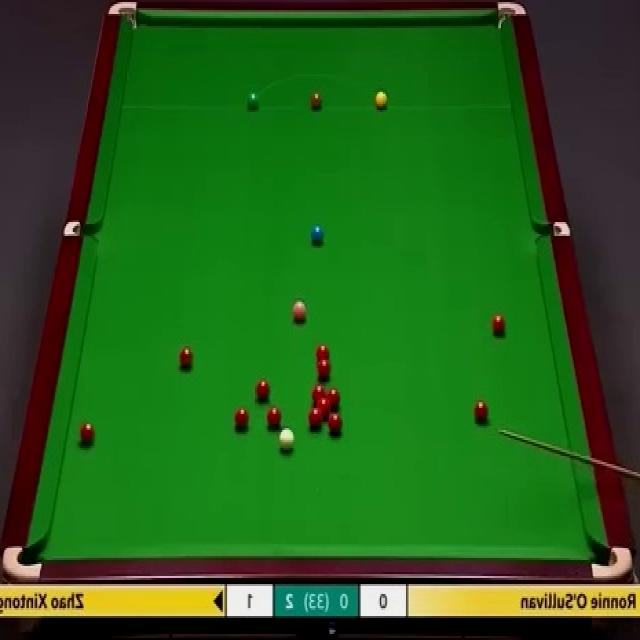blue-ball: (310, 222, 324, 247)
brown-ball: (310, 90, 323, 109)
green-ball: (246, 90, 259, 109)
pink-ball: (292, 300, 308, 324)
red-ball: (473, 400, 490, 424), (80, 420, 96, 445), (234, 406, 250, 430), (328, 413, 344, 435), (180, 344, 193, 371), (267, 406, 281, 430), (315, 397, 329, 421), (308, 408, 322, 431), (255, 379, 270, 400), (491, 315, 506, 335), (326, 388, 340, 409), (317, 358, 331, 378), (316, 344, 330, 364), (312, 384, 325, 403)
white-ball: (280, 428, 294, 451)
yellow-ball: (375, 90, 388, 109)
